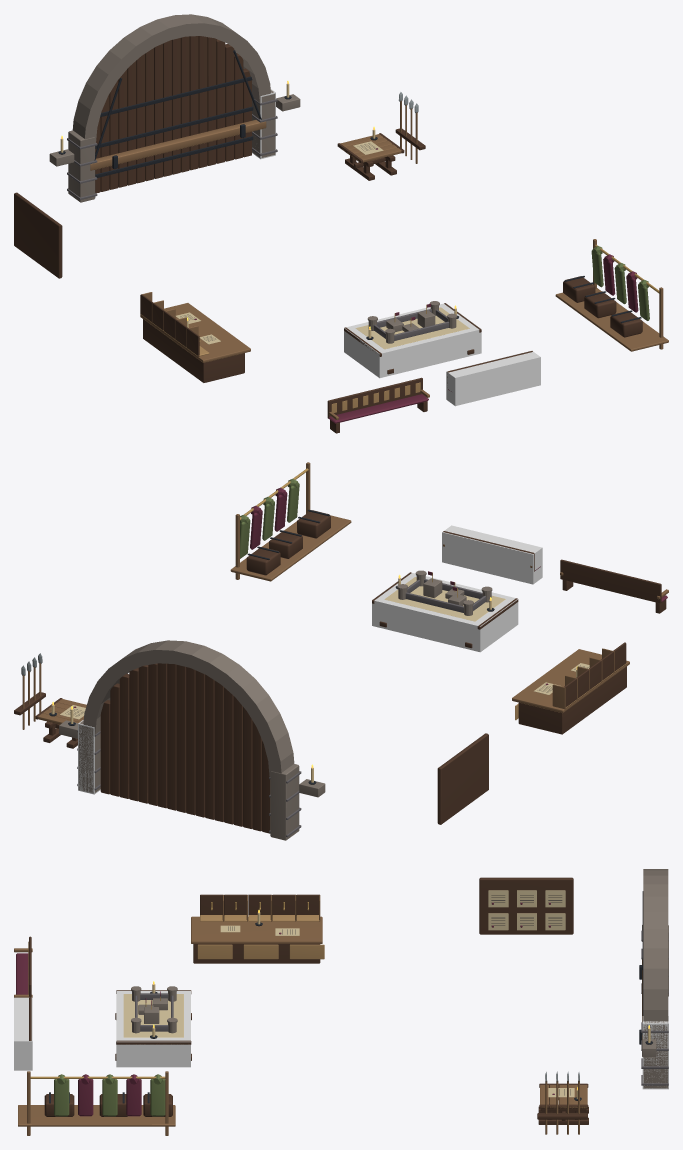
Rendered from hall_arrival.glb.
The picture shows the model from 3 angles, top to bottom: view 1: azimuth 30°, elevation 25°; view 2: azimuth 150°, elevation 25°; view 3: azimuth 270°, elevation 25°; orthographic projection. The views are drawn at different scales.
Visible parts, largest first — view 1: hall_arrival, Solid oak desk-colonly.001, Court seating-colonly.001; view 2: hall_arrival, Solid oak desk-colonly.001, Court seating-colonly.001, Gate limestone jamb-colonly.001; view 3: hall_arrival, Solid oak desk-colonly.001, Court seating-colonly.001, Gate limestone jamb-colonly.001.
Part boxes in pixels (<box>): hall_arrival: <box>14,14,668,433</box>; Solid oak desk-colonly.001: <box>344,303,481,378</box>; Court seating-colonly.001: <box>446,350,540,406</box>; hall_arrival: <box>14,462,668,840</box>; Solid oak desk-colonly.001: <box>372,572,518,652</box>; Court seating-colonly.001: <box>442,525,542,584</box>; Gate limestone jamb-colonly.001: <box>78,720,100,794</box>; hall_arrival: <box>14,869,668,1135</box>; Solid oak desk-colonly.001: <box>116,990,190,1067</box>; Court seating-colonly.001: <box>14,997,32,1070</box>; Gate limestone jamb-colonly.001: <box>642,1016,668,1089</box>.
Size of what is drawn, in the model's own units: 21.69 by 8.11 by 29.88.
